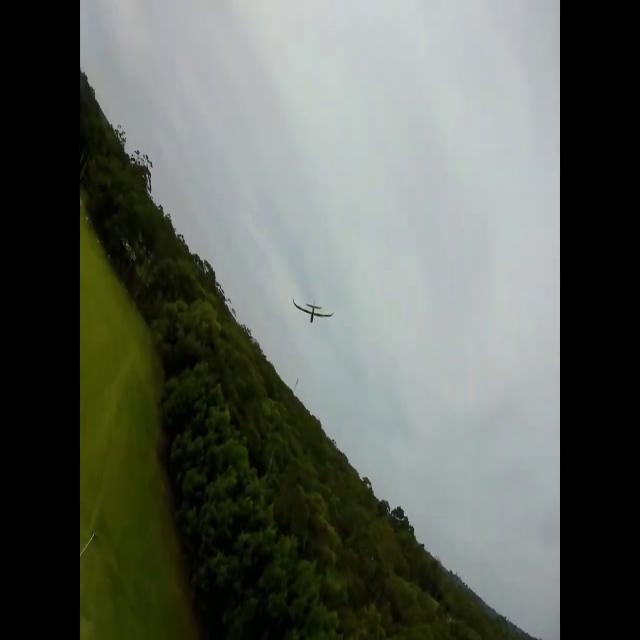iha: (292, 296, 334, 324)
